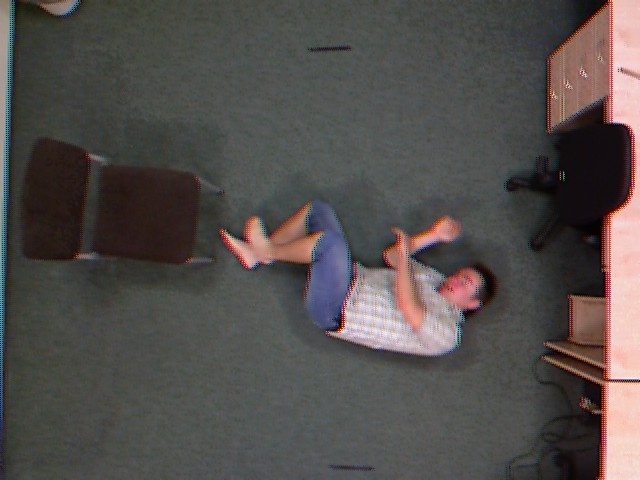fall: (220, 191, 507, 362)
